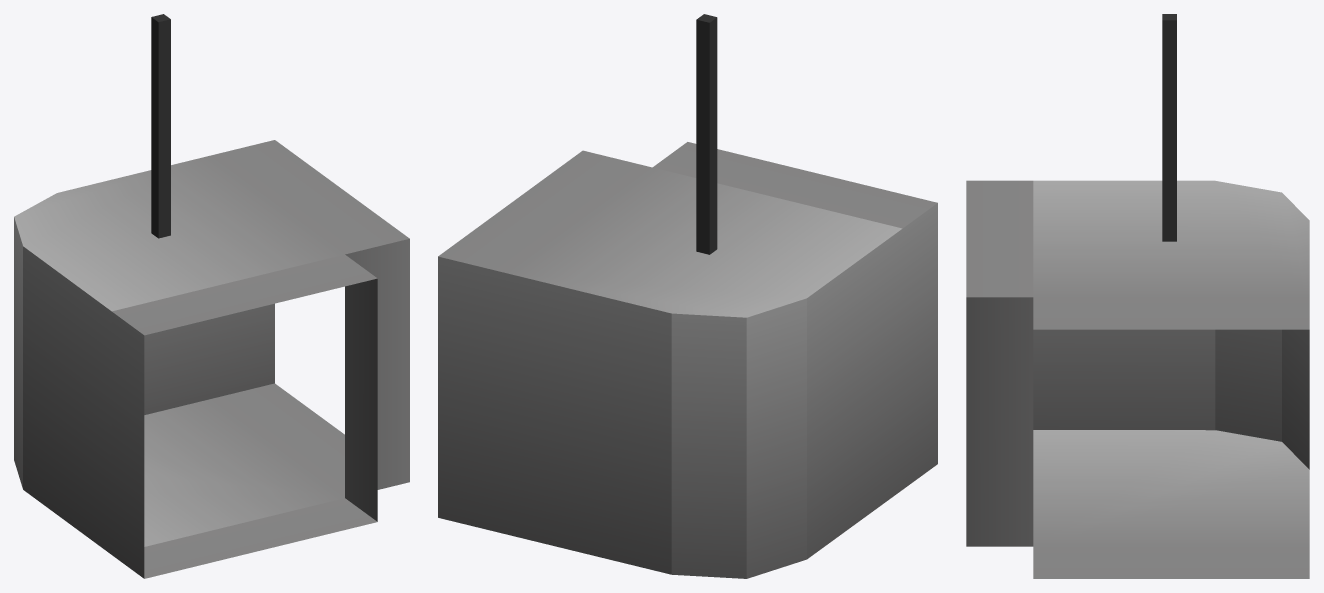
File: B01_Conduit_Corner.fbx
3 views of the same model, side by side, from view 1: azimuth 30°, elevation 25°; view 2: azimuth 150°, elevation 25°; view 3: azimuth 270°, elevation 25° (orthographic). The views are drawn at different scales.
Parts seen in each view (by area): view 1: B01_Conduit_Corner; view 2: B01_Conduit_Corner; view 3: B01_Conduit_Corner.
Part boxes in pixels (x1,y1,x2,y2): B01_Conduit_Corner: [14, 14, 409, 578]; B01_Conduit_Corner: [438, 14, 937, 578]; B01_Conduit_Corner: [966, 14, 1309, 578].
Bounding box in the file's own units: 49.13 × 72.37 × 47.86.
